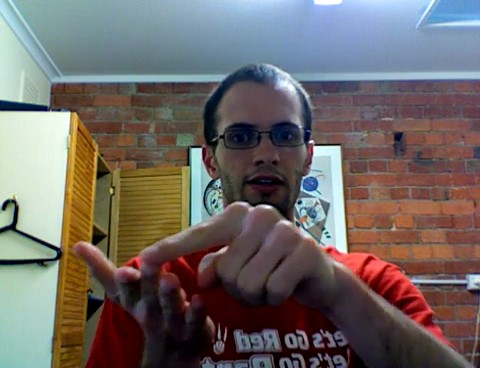I: (68, 199, 330, 351)
